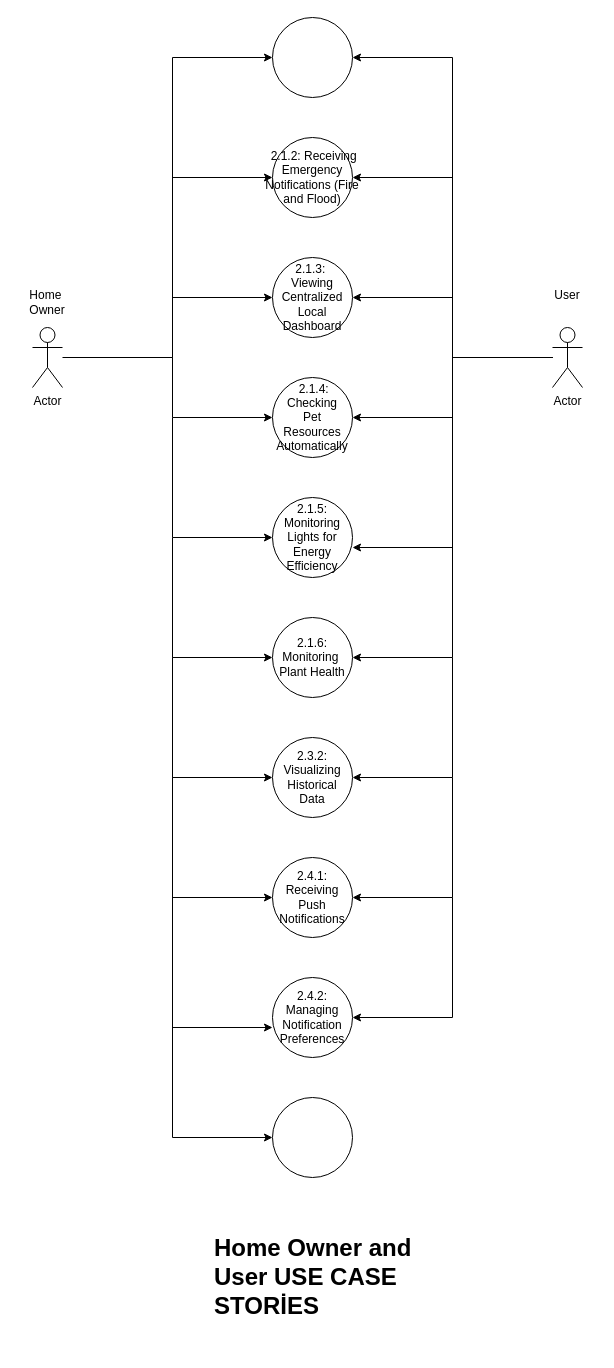
Some shapes in this 614 by 1368 pixel diagram are drawn without their labels. The shapes that lost their labels are listed below. From the top down, each one's centre as x and y in pixels, then its label:
At pixel 312 57: "2.1.1: Monitoring Climate Periodically".
At pixel 312 1137: "2.4.3: Granting Access Permisions".
